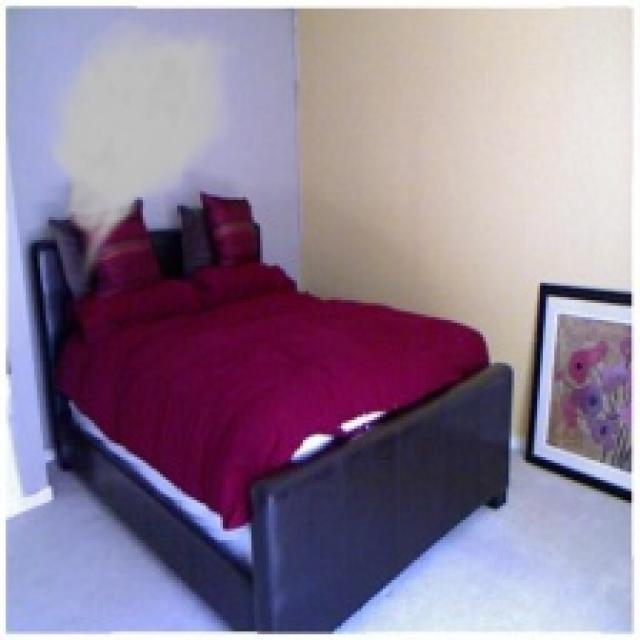smoke: (40, 14, 243, 286)
